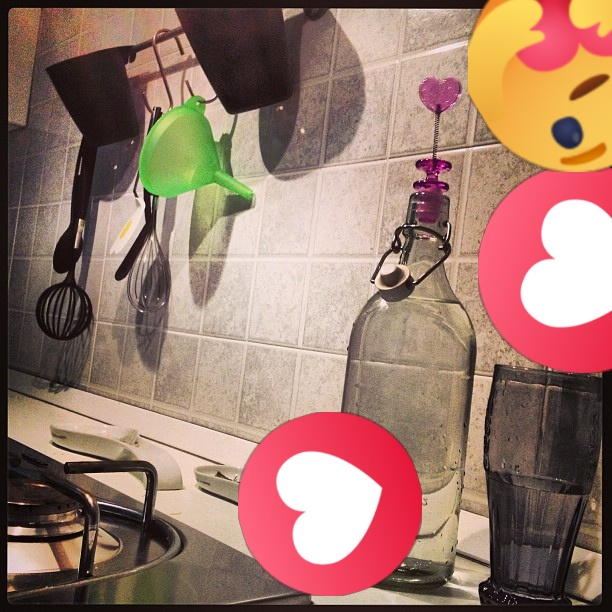care: (468, 0, 612, 172)
love: (238, 412, 422, 596), (478, 164, 612, 373)
